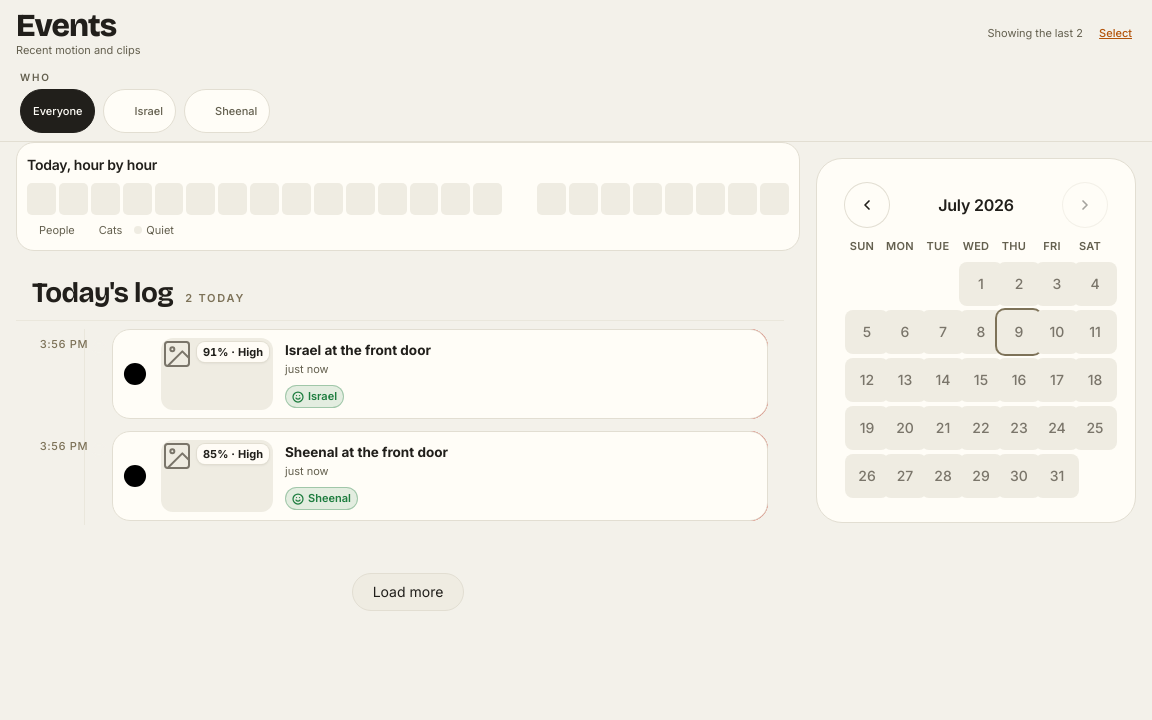
Test case: Events page › selecting a person chip narrows the list to that person
Click the radio button labelled "Israel" at (140, 111), box [104,89,176,133]
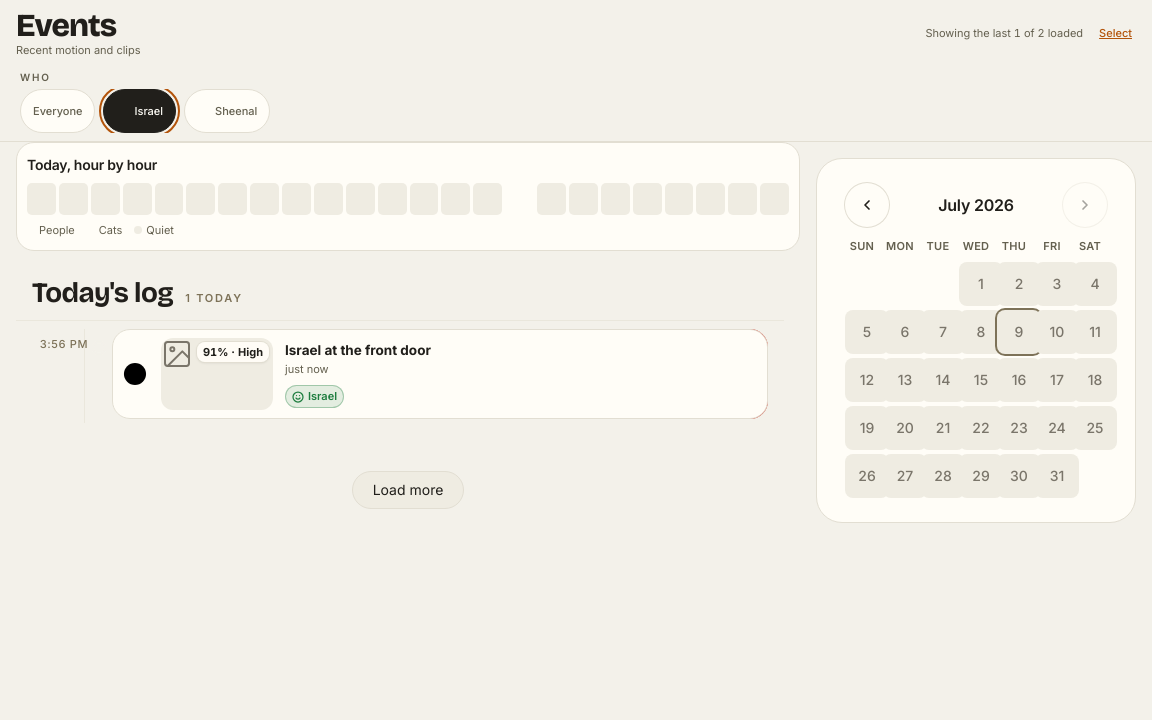
Check: the number of list items is 1, box [32,329,768,419]
Check: the text "Showing the last 1 of 2 loaded" is shown, box [925,26,1083,40]
